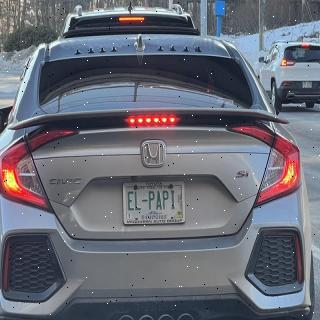license: (123, 182, 186, 226)
